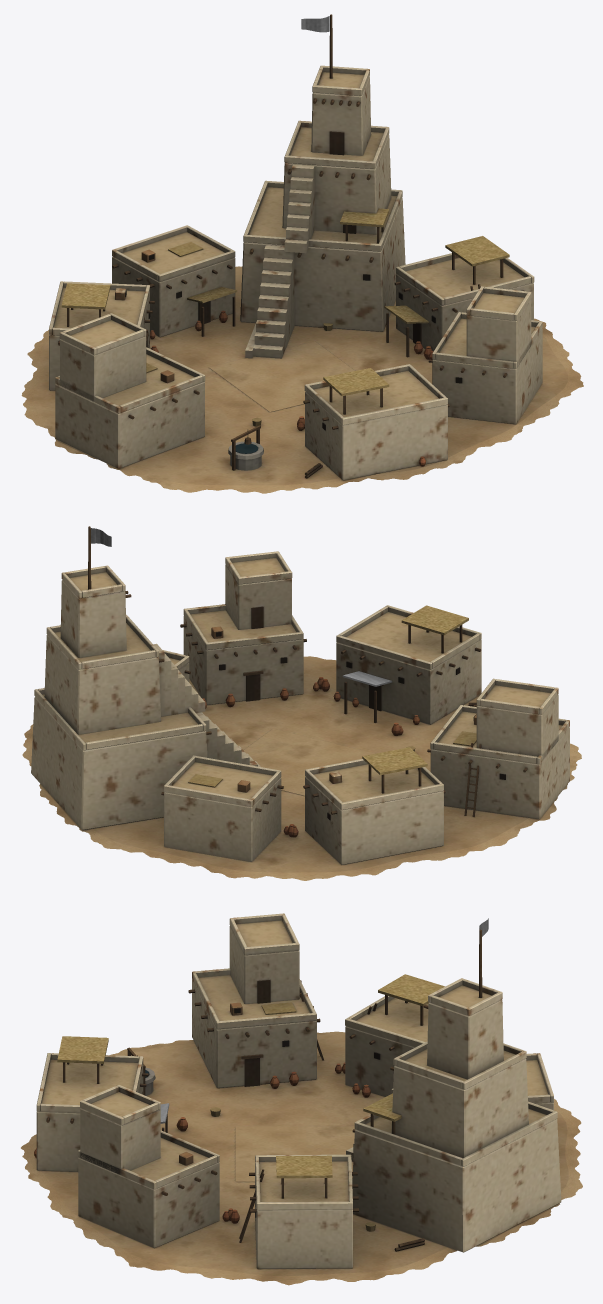
The model's file is bronze-town-small-a.glb.
The picture shows the model from 3 angles, top to bottom: view 1: azimuth 30°, elevation 25°; view 2: azimuth 150°, elevation 25°; view 3: azimuth 270°, elevation 25°; orthographic projection. The views are drawn at different scales.
Visible parts, largest first — view 1: LOD0; view 2: LOD0; view 3: LOD0.
Boxes of the visible parts, x1,y1,x2,y2 form: LOD0: (21,14,583,493); LOD0: (22,526,581,880); LOD0: (21,913,582,1285).
Size of what is drawn, in the model's own units: 3.98 by 2.08 by 3.71.
Materials: 3 (3 with a texture image).
